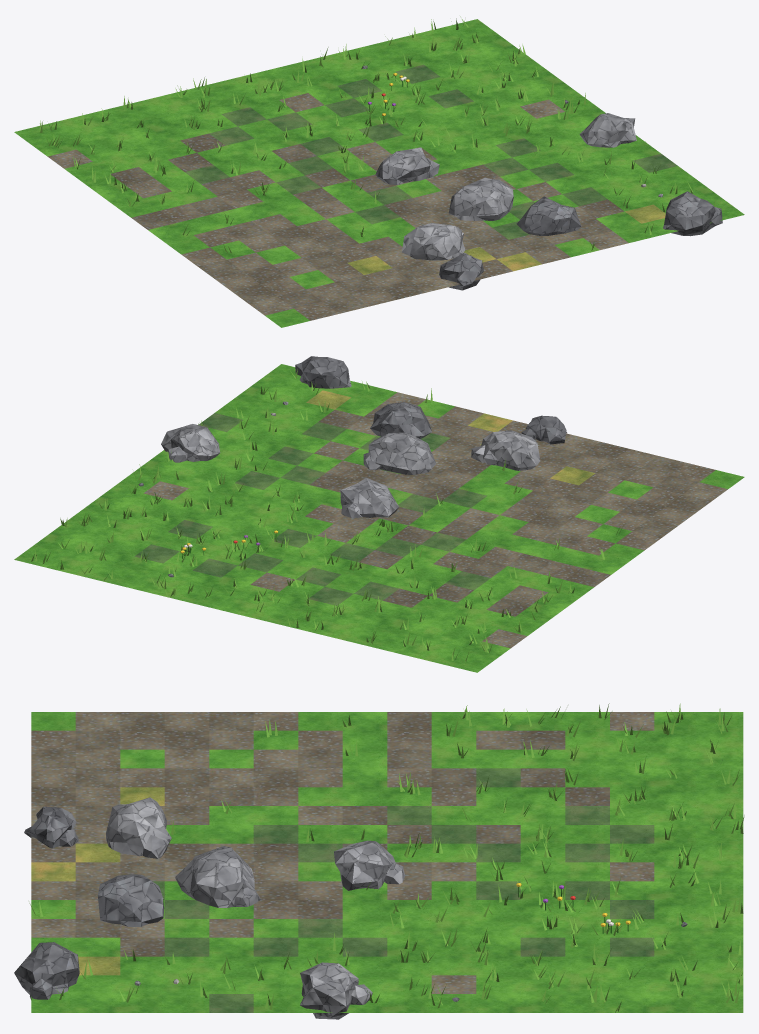
The model's file is chunk_7_16.glb.
3 renders of one model, top to bottom at view 1: azimuth 30°, elevation 25°; view 2: azimuth 150°, elevation 25°; view 3: azimuth 270°, elevation 25°, orthographic. The views are drawn at different scales.
Parts seen in each view (by area): view 1: chunk_7_16; view 2: chunk_7_16; view 3: chunk_7_16.
Boxes of the visible parts, x1,y1,x2,y2 form: chunk_7_16: (14,16,744,327); chunk_7_16: (14,356,744,672); chunk_7_16: (14,703,744,1019).
Bounding box in the file's own units: 16.08 × 1.51 × 16.42.
Materials: 14 (9 with a texture image).
